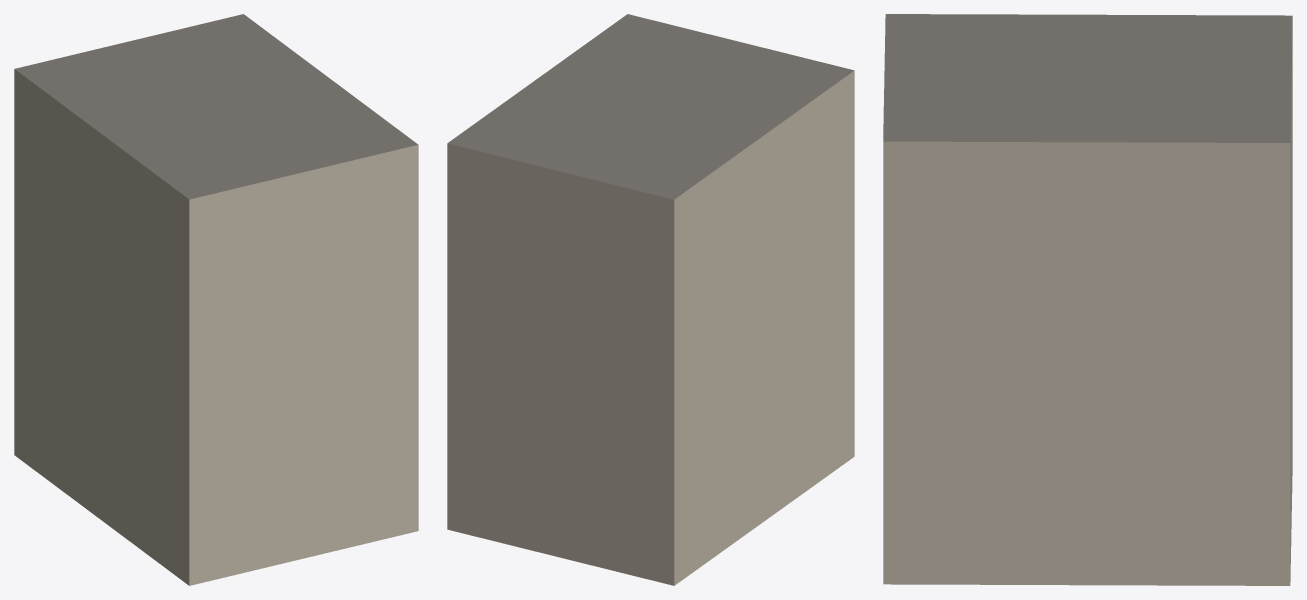
3 renders of one model, left to right at view 1: azimuth 30°, elevation 25°; view 2: azimuth 150°, elevation 25°; view 3: azimuth 270°, elevation 25°, orthographic. The views are drawn at different scales.
Parts seen in each view (by area): view 1: HP-w858824354; view 2: HP-w858824354; view 3: HP-w858824354.
Part boxes in pixels (x1=…): HP-w858824354: x1=14, y1=14, x2=418, y2=585; HP-w858824354: x1=447, y1=14, x2=854, y2=585; HP-w858824354: x1=883, y1=14, x2=1292, y2=585.
Bounding box in the file's own units: 11.25 × 18 × 15.09.
